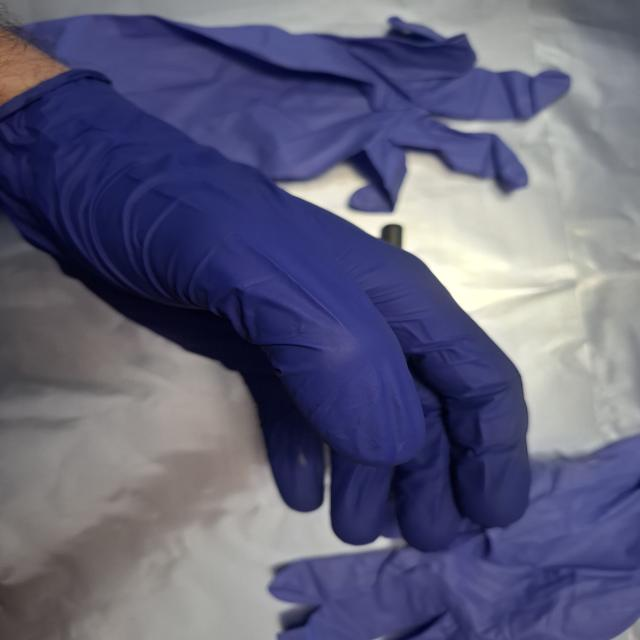glove_on: (0, 62, 537, 555)
